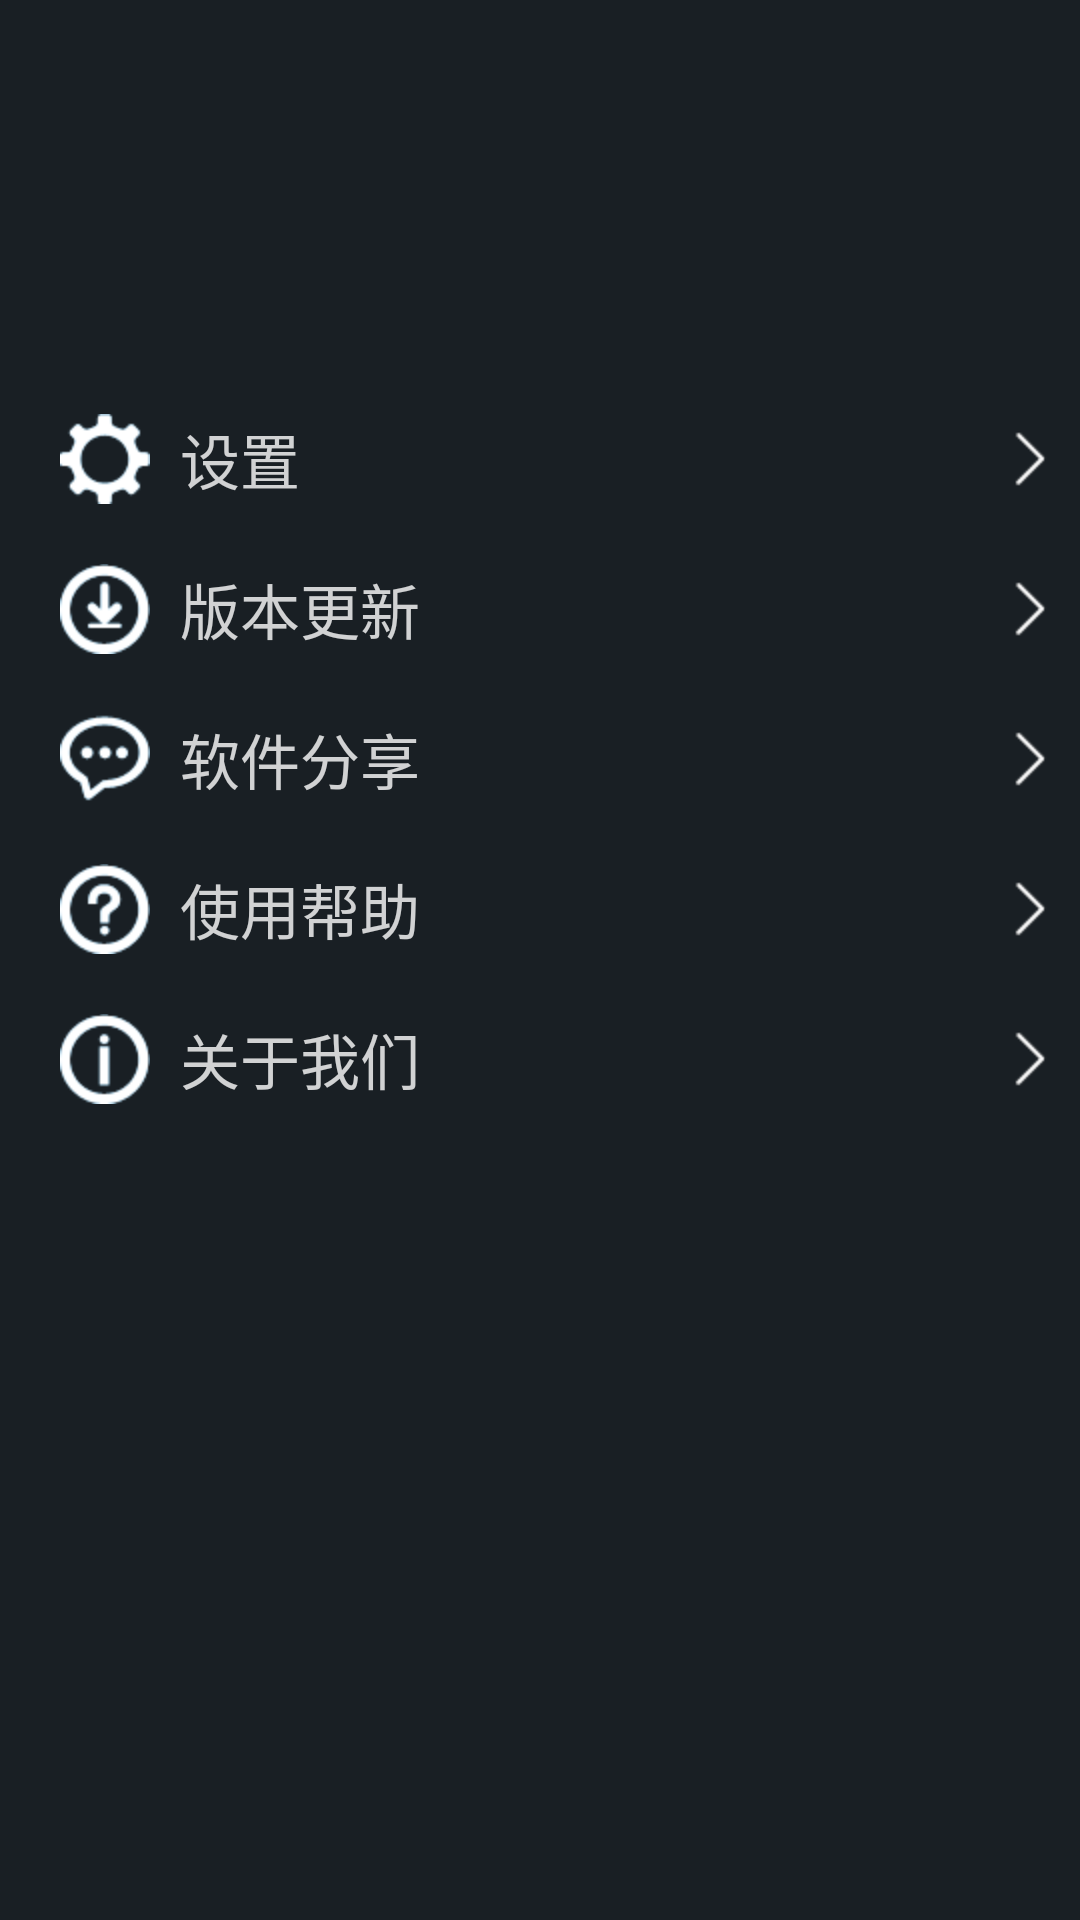

Icons on this 1080 × 1920 Android screen, each with its box as (x1, y1, x2, y2):
about: (60, 1014, 150, 1104)
help: (60, 864, 150, 954)
setting: (60, 414, 150, 504)
to right: (1015, 432, 1045, 486), (1015, 582, 1045, 636), (1015, 732, 1045, 786), (1015, 882, 1045, 936), (1015, 1032, 1045, 1086)
update: (60, 564, 150, 654)
